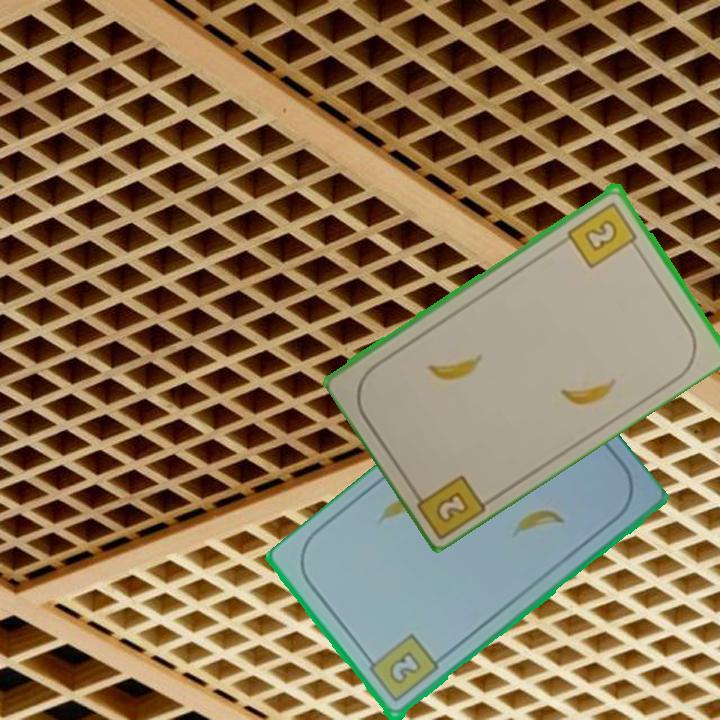2b: (362, 631, 441, 706), (406, 470, 490, 539), (564, 198, 642, 271)
